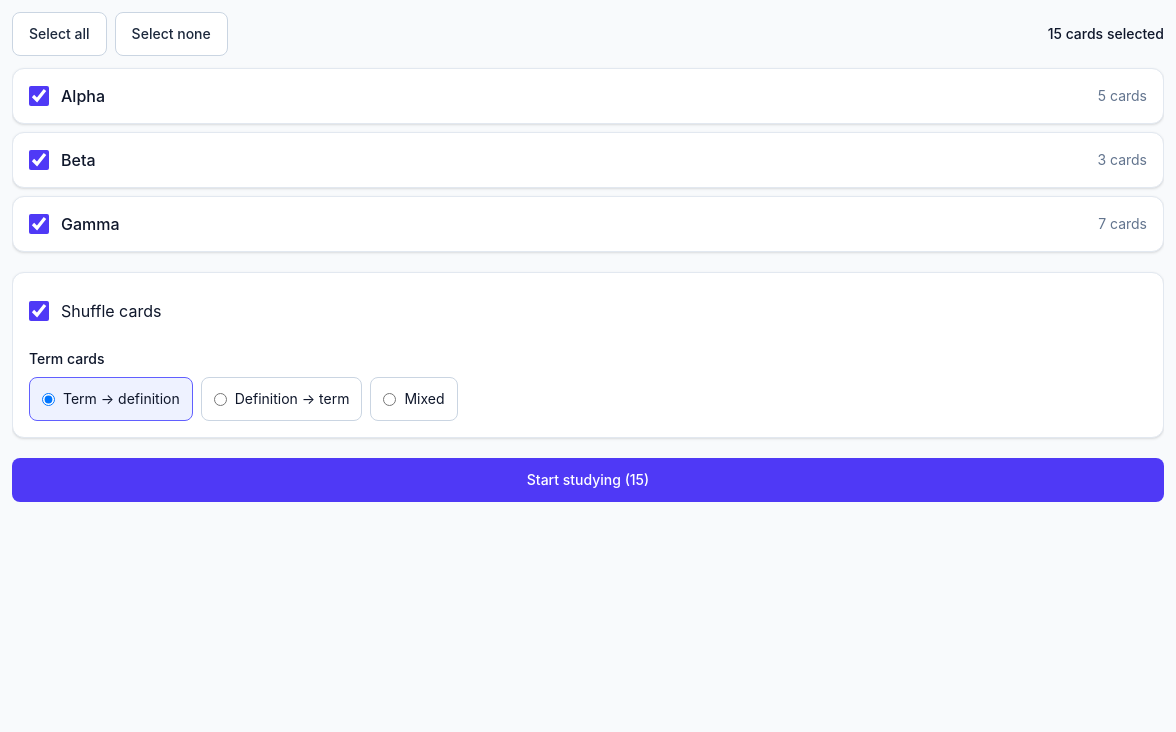
Test: group picker › selecting a single group enables Start
The width and height of the screenshot is (1176, 732).
Step 1. Click the button "Select none" → [171, 34], box [115,12,228,56]
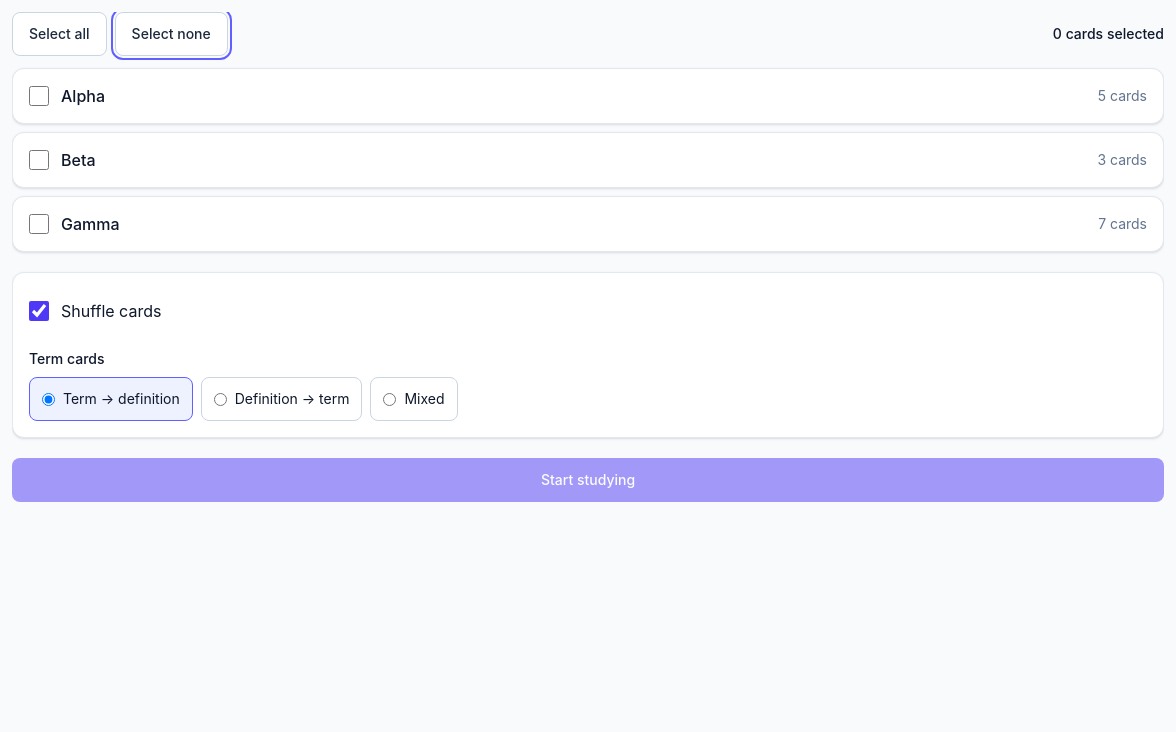
Step 2. Click the checkbox labelled "Gamma 7 cards" → [39, 224], box [29,214,49,234]
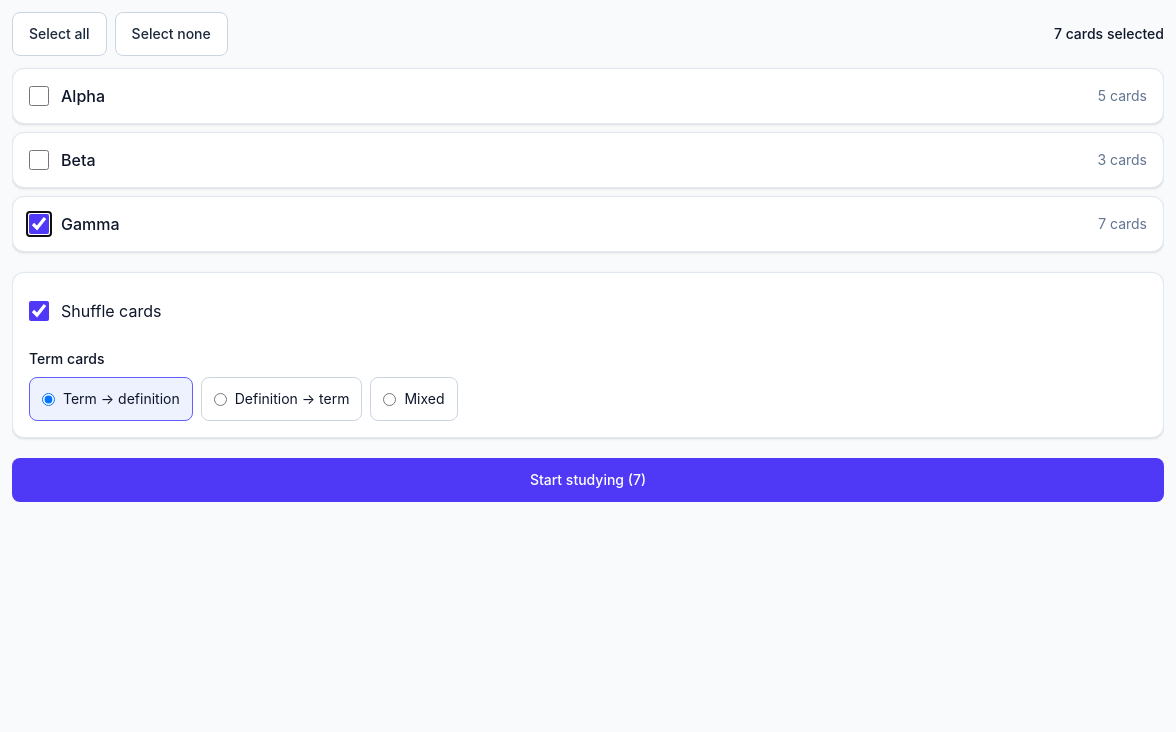
Expected: the text with test id "selected-total" reads "7 cards selected", [1054,24,1164,44]
Expected: the button "Start studying (7)" is enabled, [12,458,1164,502]
